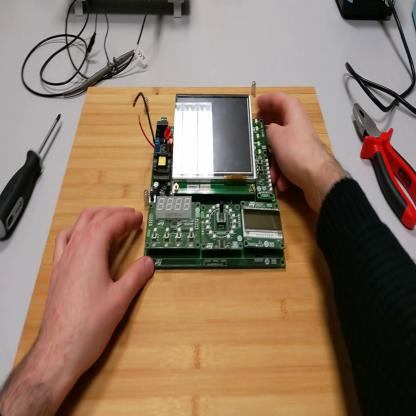hand: (41, 204, 154, 380), (255, 88, 322, 199)
low voltage board: (135, 91, 288, 270)
oscilloscope: (73, 1, 187, 20)
oscilloscope probe tip: (62, 43, 138, 98)
pliers: (353, 103, 416, 230)
screwdriver-: (2, 109, 61, 239)
welder station: (338, 1, 395, 24)
working area: (14, 84, 364, 413)
